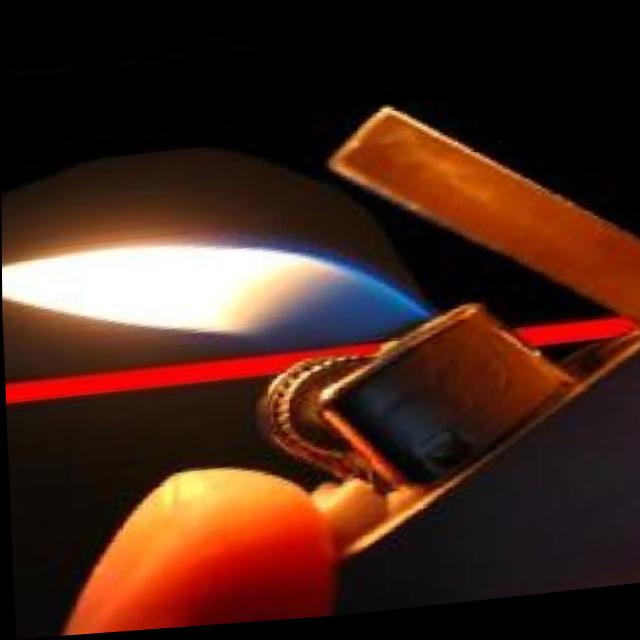Fire: (1, 219, 430, 381)
